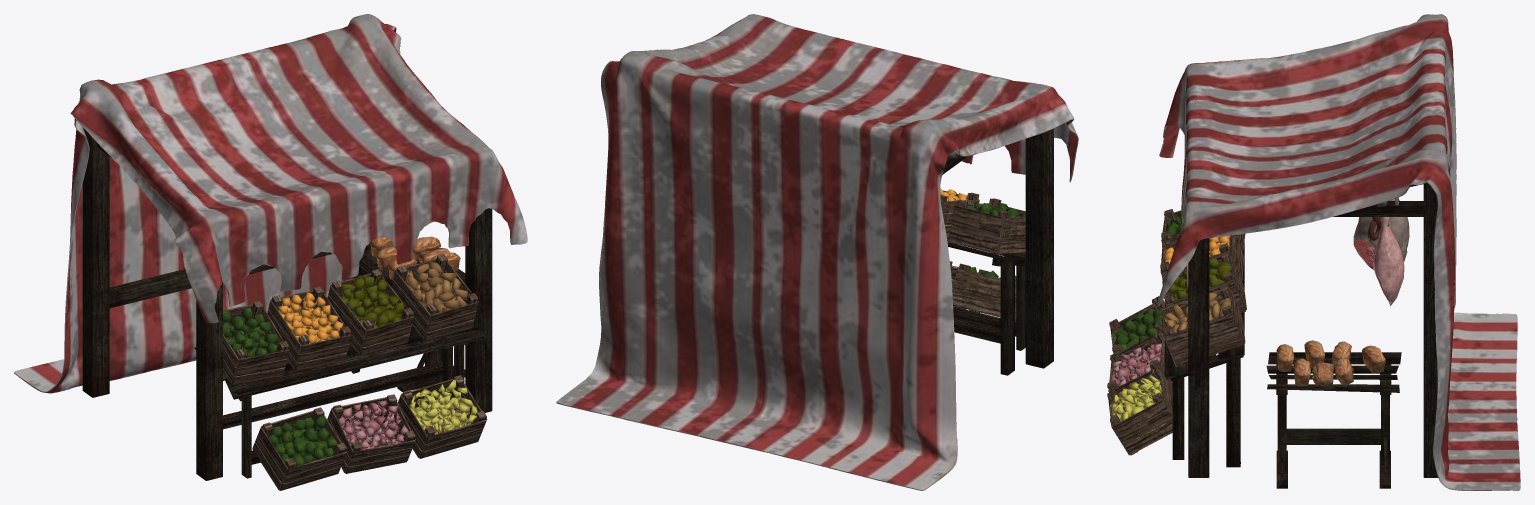
Rendered from stall-wood.glb.
3 renders of one model, left to right at view 1: azimuth 30°, elevation 25°; view 2: azimuth 150°, elevation 25°; view 3: azimuth 270°, elevation 25°, orthographic. The views are drawn at different scales.
Visible parts, largest first — view 1: SM_Asset_Props; view 2: SM_Asset_Props; view 3: SM_Asset_Props.
Part boxes in pixels (x1,y1,x2,y2): SM_Asset_Props: (14, 14, 527, 490); SM_Asset_Props: (556, 14, 1078, 490); SM_Asset_Props: (1107, 14, 1520, 490).
Bounding box in the file's own units: 3.09 × 2.62 × 3.06.
14 materials, 12 textured.
